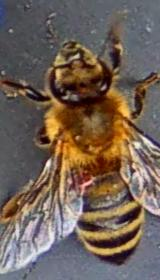varroa_mite: (59, 166, 96, 195)
